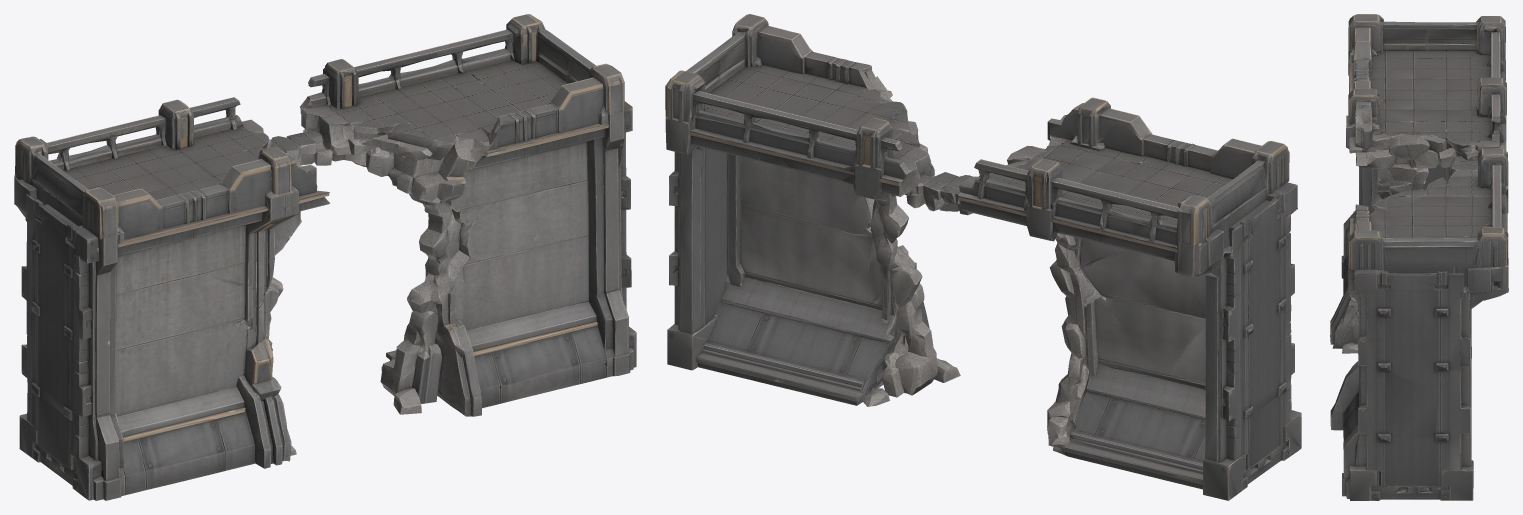
File: imperial_city_wall_straight_breached.glb
3 renders of one model, left to right at view 1: azimuth 30°, elevation 25°; view 2: azimuth 150°, elevation 25°; view 3: azimuth 270°, elevation 25°, orthographic. The views are drawn at different scales.
Parts seen in each view (by area): view 1: mesh_node; view 2: mesh_node; view 3: mesh_node.
Boxes of the visible parts, <box> form: mesh_node: <box>14,14,636,500</box>; mesh_node: <box>665,14,1301,500</box>; mesh_node: <box>1330,14,1508,500</box>.
Size of the model in its own units: 11.89 by 6.05 by 3.79.
1 material, 1 textured.
